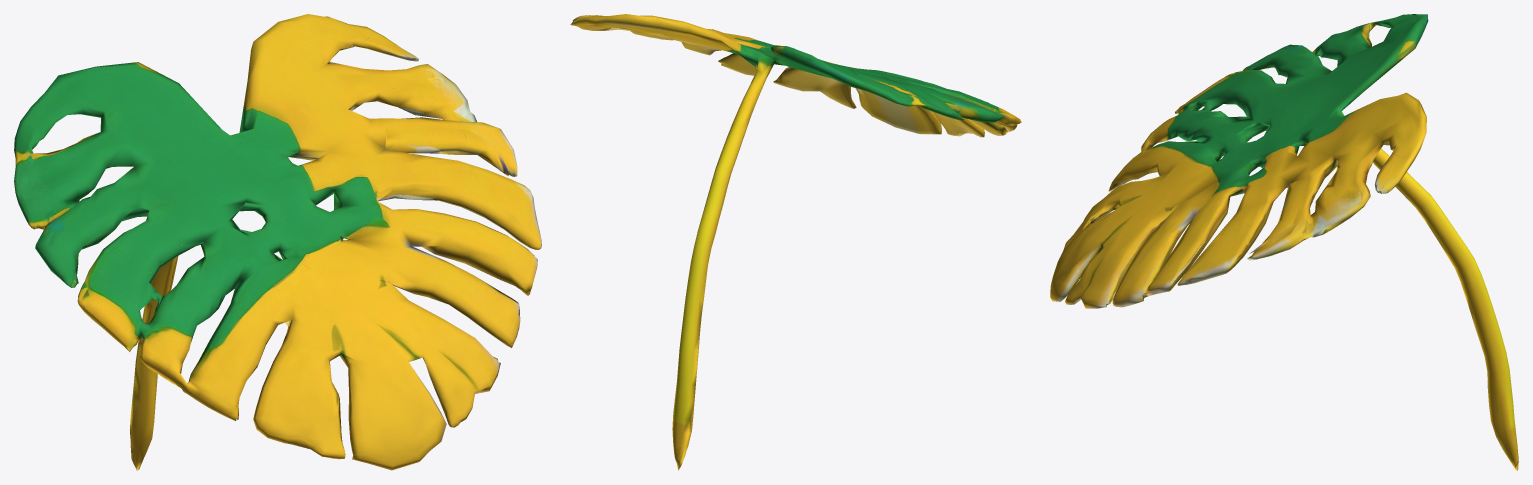
The model's file is mon_variegata_gold.glb.
The picture shows the model from 3 angles, left to right: view 1: azimuth 30°, elevation 25°; view 2: azimuth 150°, elevation 25°; view 3: azimuth 270°, elevation 25°; orthographic projection. The views are drawn at different scales.
Size of the model in its own units: 1.99 by 1.91 by 2.
Materials: 1 (1 with a texture image).
